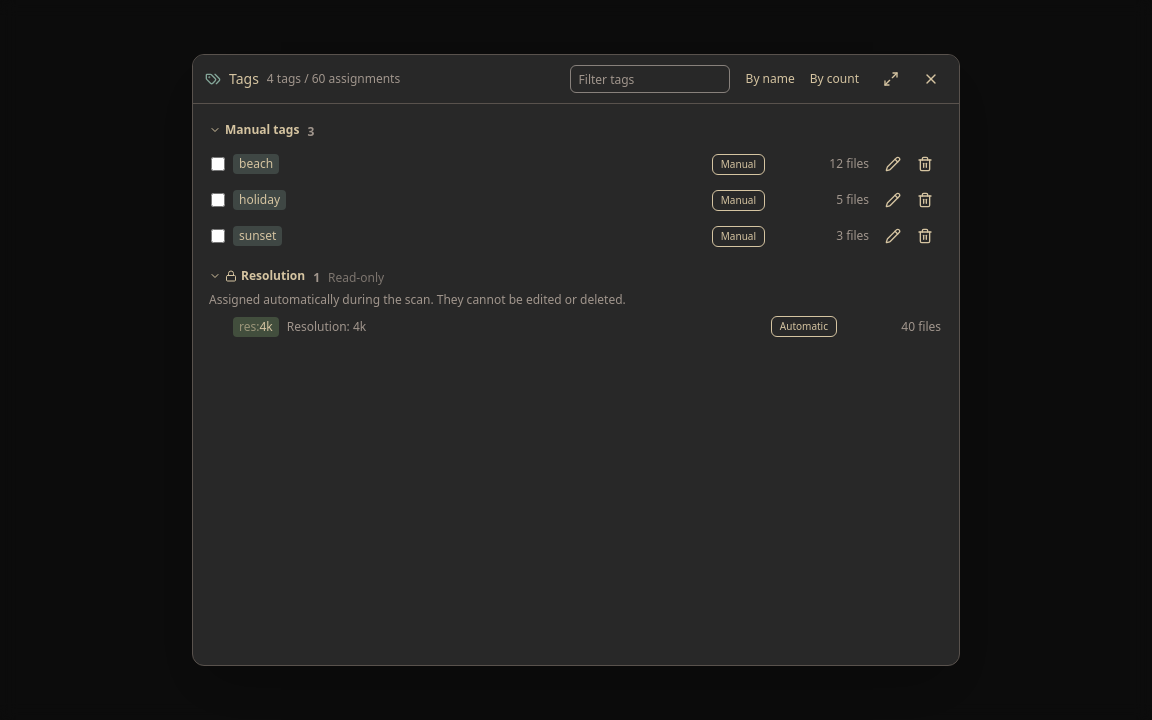
Test: Tags screen › narrows the list with the filter box and reports no match
This screenshot has width=1152, height=720.
Expected: the button "Manual tags" is shown, [209, 122, 299, 138]
In the field labelled "Filter tags": (650, 79) [570, 65, 730, 93], type "holi"
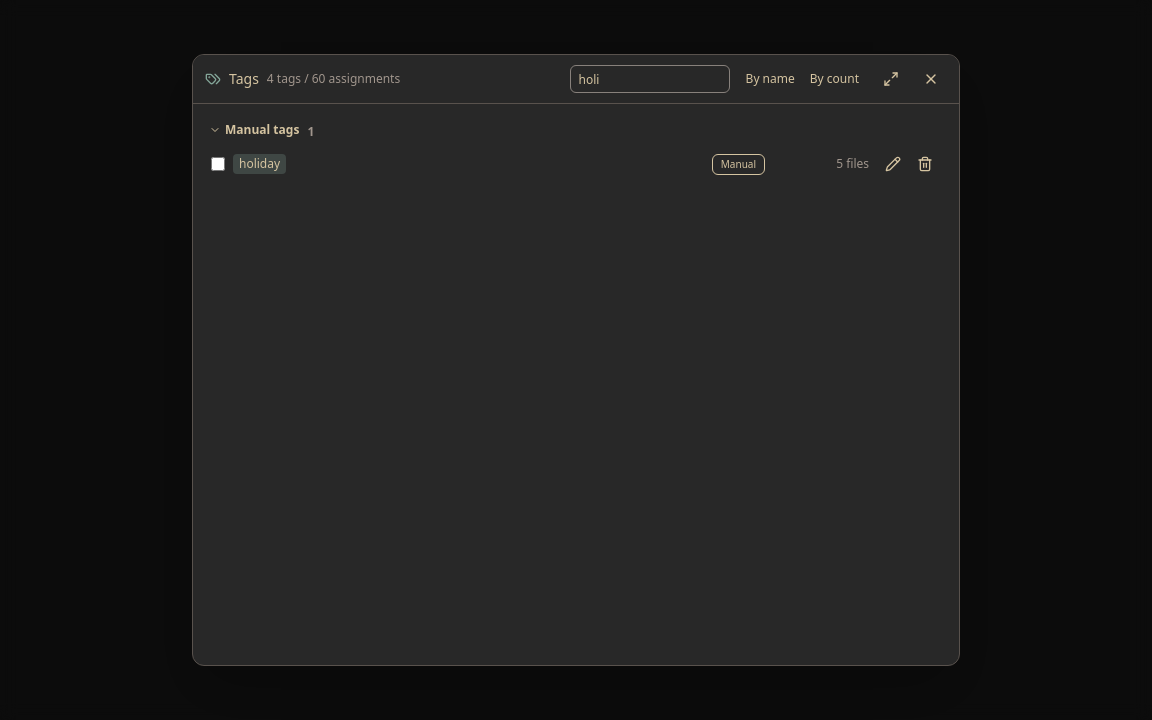
Expected: the text "holiday" is shown, [233, 154, 286, 174]
Result: the button "beach" is gone
Replace the text in the field named "Filter tags" with "zzz": (650, 79) [570, 65, 730, 93]
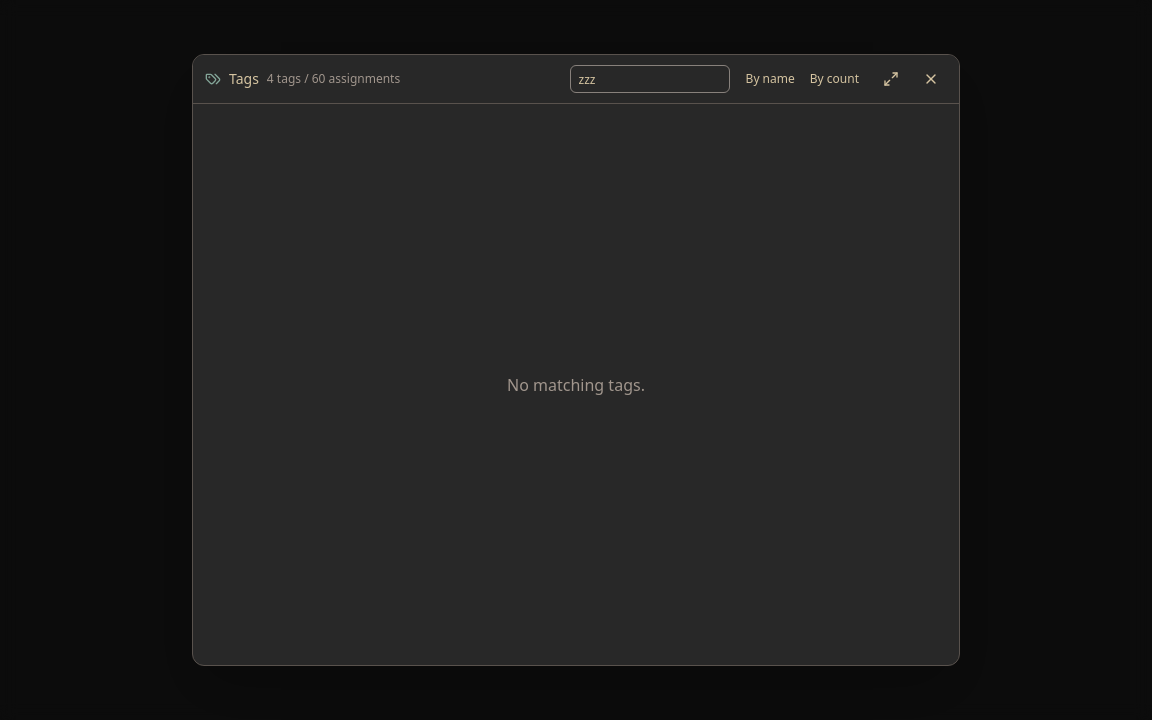
Result: the text "No matching tags." is shown at [507, 372, 645, 396]
